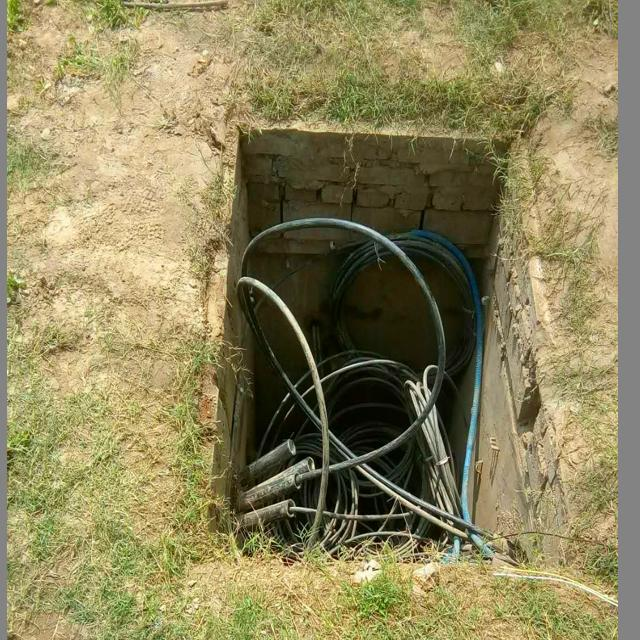lose: (194, 110, 574, 571)
